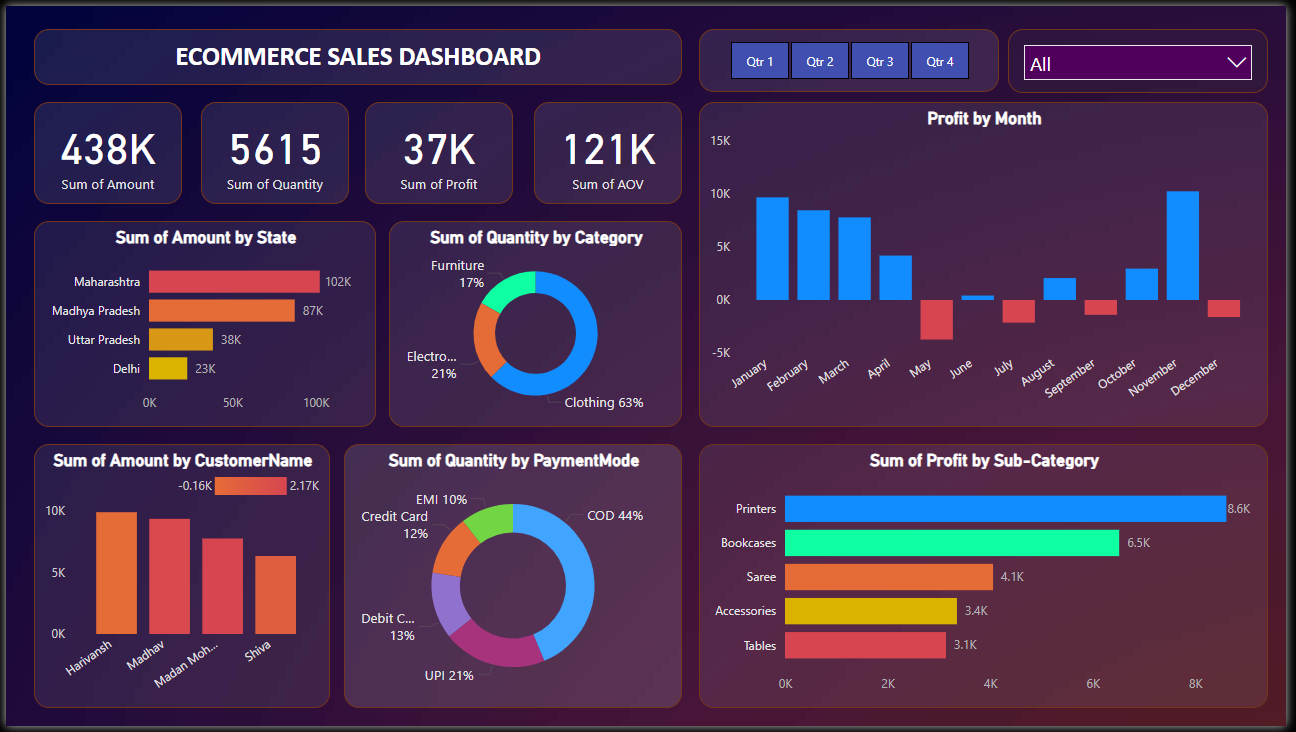

This screenshot's page, from the dashboard's own definition file:
{"tool":"powerbi","page":{"name":"Page 1","canvas":[1280,720],"ordinal":0},"visuals":[{"type":"textbox","box":[28,23,648,56],"z":0},{"type":"columnChart","title":"Profit by Month","fields":{"Y":["Sum(Details.Profit)"],"Category":["Orders.Order Date.Variation.Date Hierarchy.Month"]},"box":[693,96,569,325],"z":1000},{"type":"barChart","fields":{"Category":["Details.Sub-Category"],"Y":["Sum(Details.Profit)"]},"box":[693,438,569,264],"z":2000},{"type":"donutChart","fields":{"Category":["Details.Category"],"Y":["Sum(Details.Quantity)"]},"box":[383,215,293,206],"z":3000},{"type":"donutChart","fields":{"Y":["Sum(Details.Quantity)"],"Category":["Details.PaymentMode"]},"box":[338,438,338,264],"z":4000},{"type":"card","fields":{"Values":["Sum(Details.Amount)"]},"box":[28,96,148,102],"z":5000},{"type":"card","fields":{"Values":["Sum(Details.Quantity)"]},"box":[194.7,95.9,148.2,102.4],"z":6000},{"type":"card","fields":{"Values":["Sum(Details.Profit)"]},"box":[359,96,148,102],"z":7000},{"type":"card","fields":{"Values":["Sum(Details.AOV)"]},"box":[528,96,148,102],"z":8000},{"type":"barChart","fields":{"Category":["Orders.State"],"Y":["Sum(Details.Amount)"]},"box":[28,215,342,206],"z":9000},{"type":"columnChart","fields":{"Category":["Orders.CustomerName"],"Y":["Sum(Details.Amount)"]},"box":[28,438,296,264],"z":10000},{"type":"slicer","fields":{"Values":["Orders.Order Date.Variation.Date Hierarchy.Quarter"]},"box":[693,23,300,63],"z":11000},{"type":"slicer","fields":{"Values":["Orders.State"]},"box":[1002.2,23.3,260,63.3],"z":12000}]}

Visuals, with their boxes in screenshot pixels (x1, y1, x2, y2), scaled from the page's 1280x720 canvas onto the 1296x732 screenshot:
textbox: [x1=28, y1=23, x2=684, y2=80]
"Profit by Month" columnChart: [x1=702, y1=98, x2=1278, y2=428]
barChart - Details.Sub-Category x Sum(Details.Profit): [x1=702, y1=445, x2=1278, y2=714]
donutChart - Details.Category x Sum(Details.Quantity): [x1=388, y1=219, x2=684, y2=428]
donutChart - Sum(Details.Quantity) x Details.PaymentMode: [x1=342, y1=445, x2=684, y2=714]
card - Sum(Details.Amount): [x1=28, y1=98, x2=178, y2=201]
card - Sum(Details.Quantity): [x1=197, y1=97, x2=347, y2=202]
card - Sum(Details.Profit): [x1=363, y1=98, x2=513, y2=201]
card - Sum(Details.AOV): [x1=535, y1=98, x2=684, y2=201]
barChart - Orders.State x Sum(Details.Amount): [x1=28, y1=219, x2=375, y2=428]
columnChart - Orders.CustomerName x Sum(Details.Amount): [x1=28, y1=445, x2=328, y2=714]
slicer - Orders.Order Date.Variation.Date Hierarchy.Quarter: [x1=702, y1=23, x2=1005, y2=87]
slicer - Orders.State: [x1=1015, y1=24, x2=1278, y2=88]
